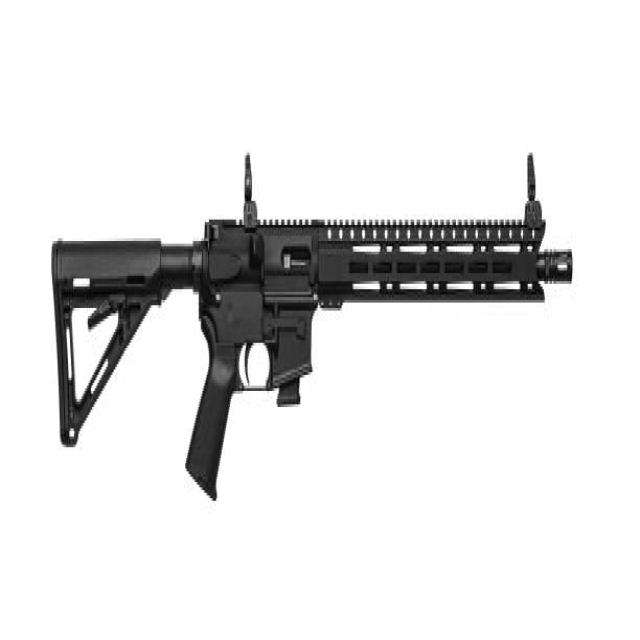rifle: (53, 145, 573, 512)
